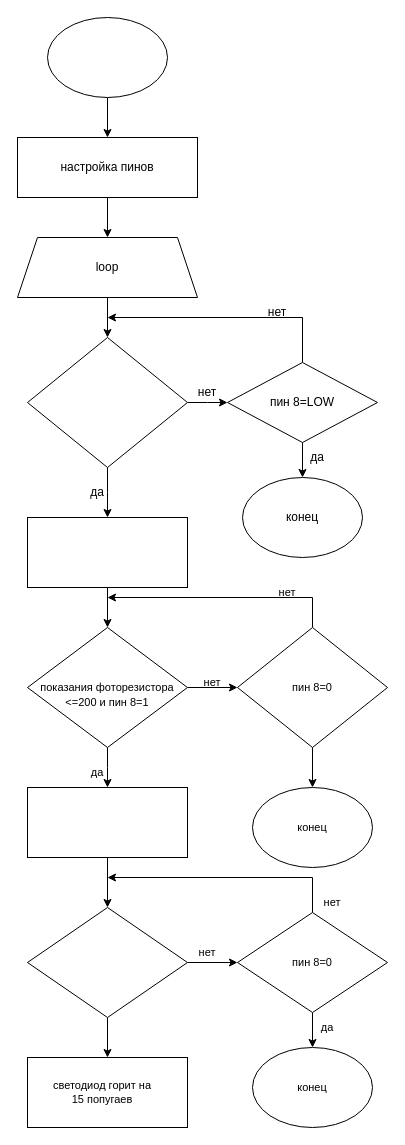
Image size: 405x1145. Some labels were removed from this diagram. Each missing label, with the centre of its shape:
"начало" goes at pixel 107 57.
"показания фоторезистора <=150 и пин 8=1" goes at pixel 107 962.
"показания фоторезистора <=250 и пин 8 = HIGH" goes at pixel 107 402.
"светодиод горит на 20 попугаев" goes at pixel 107 822.
"светодиод горит на 25 попугаев" goes at pixel 107 552.
